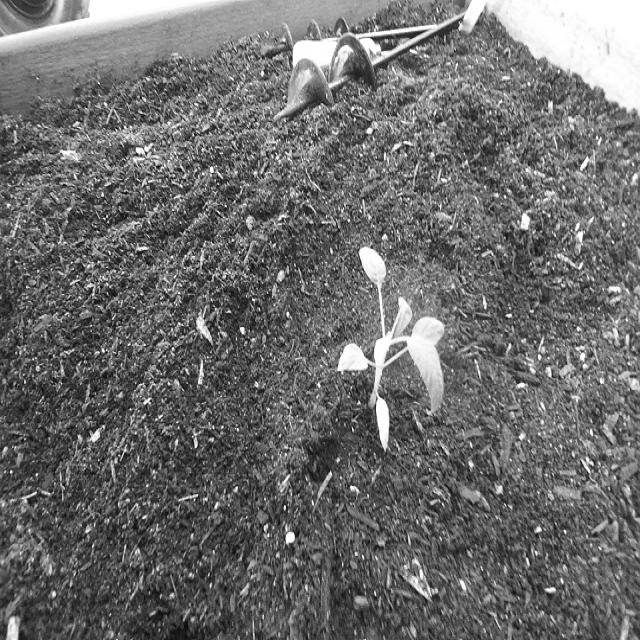Healthy: (336, 241, 450, 459)
